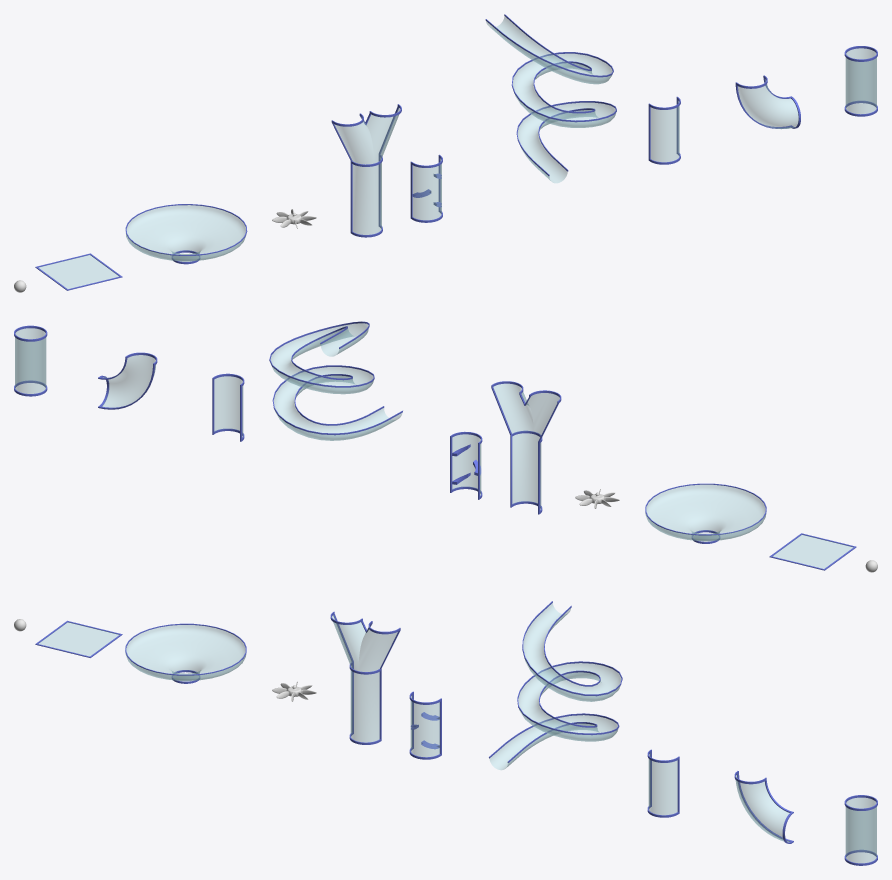
File: Blocks.fbx
3 views of the same model, one above another, from view 1: azimuth 30°, elevation 25°; view 2: azimuth 150°, elevation 25°; view 3: azimuth 330°, elevation 25° (orthographic).
Parts seen in each view (by area): view 1: Slide, Funnel, Y_Split, Booster, Turn, Tube, Barrier, Plane; view 2: Slide, Funnel, Y_Split, Booster, Turn, Tube, Barrier, Plane; view 3: Slide, Funnel, Y_Split, Booster, Turn, Tube, Barrier, Plane.
Boxes of the visible parts, box(x1,y1,x2,y2) form: Slide: box(485, 14, 616, 182); Funnel: box(125, 204, 247, 264); Y_Split: box(331, 104, 401, 237); Booster: box(844, 46, 877, 116); Turn: box(735, 75, 800, 129); Tube: box(648, 96, 680, 164); Barrier: box(410, 154, 442, 222); Plane: box(35, 253, 122, 290); Slide: box(269, 321, 402, 440); Funnel: box(645, 483, 766, 543); Y_Split: box(491, 381, 561, 514); Booster: box(14, 325, 47, 396); Turn: box(98, 352, 157, 409); Tube: box(212, 373, 244, 441); Barrier: box(450, 431, 482, 499); Plane: box(769, 533, 856, 570); Slide: box(489, 601, 622, 769); Funnel: box(125, 623, 246, 683); Y_Split: box(330, 611, 400, 744); Booster: box(844, 795, 877, 865); Turn: box(734, 771, 793, 843); Tube: box(647, 749, 679, 817); Barrier: box(409, 691, 441, 759); Plane: box(35, 620, 122, 657).
Size of what is drawn, in the model's own units: 3.17 by 0.5308 by 0.4117.
